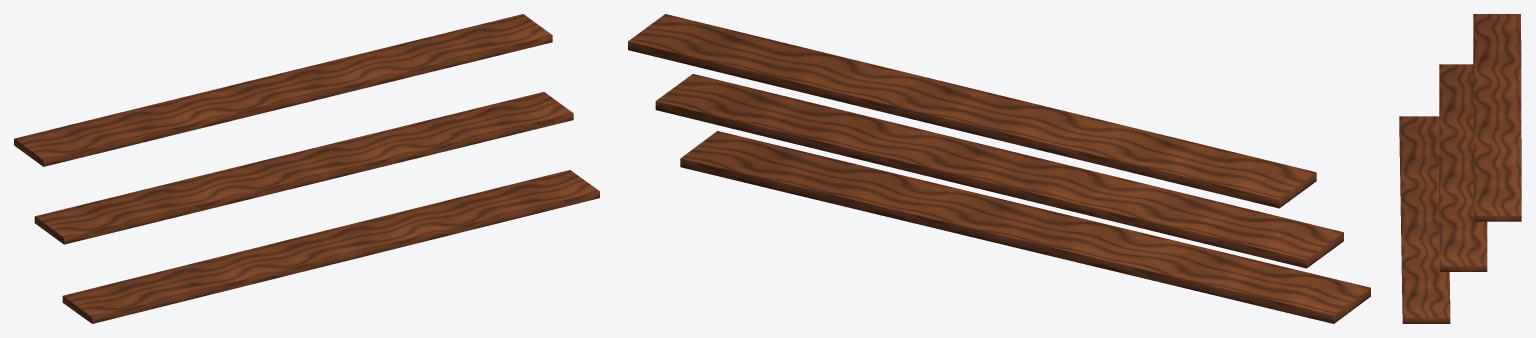
Rendered from EST-MAD-003_anim.glb.
The picture shows the model from 3 angles, left to right: view 1: azimuth 30°, elevation 25°; view 2: azimuth 150°, elevation 25°; view 3: azimuth 270°, elevation 25°; orthographic projection. The views are drawn at different scales.
Visible parts, largest first — view 1: EST-MAD-003_anim1, EST-MAD-003_anim2, EST-MAD-003_anim0; view 2: EST-MAD-003_anim0, EST-MAD-003_anim2, EST-MAD-003_anim1; view 3: EST-MAD-003_anim2, EST-MAD-003_anim0, EST-MAD-003_anim1.
Part boxes in pixels (x1,y1,x2,y2): EST-MAD-003_anim1: [34, 92, 573, 244]; EST-MAD-003_anim2: [14, 14, 552, 166]; EST-MAD-003_anim0: [62, 170, 599, 323]; EST-MAD-003_anim0: [680, 131, 1370, 323]; EST-MAD-003_anim2: [628, 14, 1316, 208]; EST-MAD-003_anim1: [655, 74, 1343, 268]; EST-MAD-003_anim2: [1473, 14, 1521, 221]; EST-MAD-003_anim0: [1399, 116, 1450, 323]; EST-MAD-003_anim1: [1439, 64, 1487, 271].
Size of the model in its own units: 3.02 by 0.7399 by 0.7687.
1 material, 1 textured.
